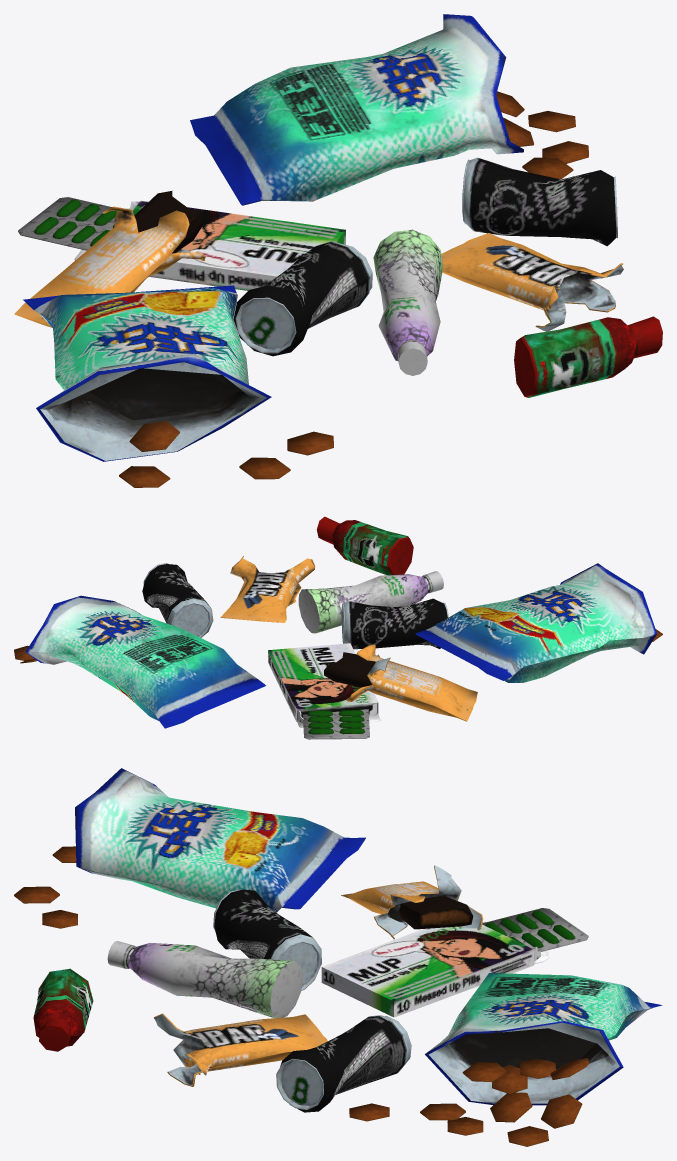
The model's file is trash.obj.
The picture shows the model from 3 angles, top to bottom: view 1: azimuth 30°, elevation 25°; view 2: azimuth 150°, elevation 25°; view 3: azimuth 270°, elevation 25°; orthographic projection. The views are drawn at different scales.
Parts seen in each view (by area): view 1: Mesh_0113; view 2: Mesh_0113; view 3: Mesh_0113.
Part boxes in pixels (left/top/right/bottom): Mesh_0113: left=14, top=14, right=662, bottom=487; Mesh_0113: left=14, top=516, right=662, bottom=739; Mesh_0113: left=14, top=768, right=662, bottom=1146.
Bounding box in the file's own units: 14731 × 2397 × 12709.
Materials: 1 (1 with a texture image).
